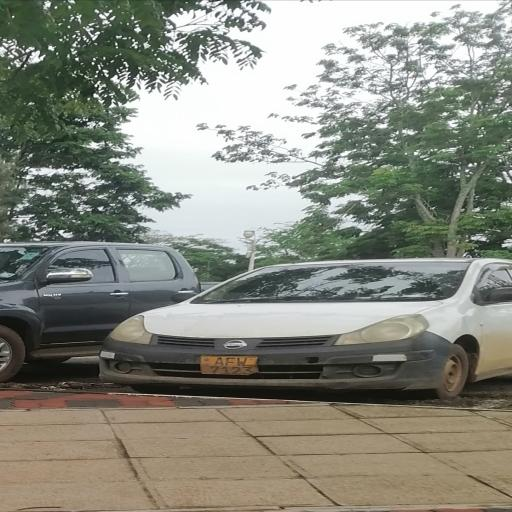number-plates: (195, 350, 261, 379)
